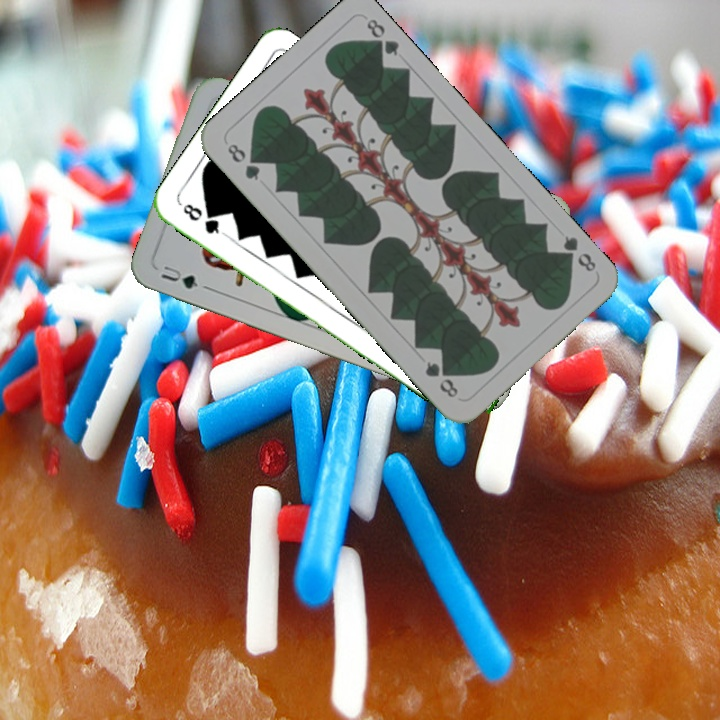G8: (179, 199, 229, 239), (555, 231, 599, 275), (223, 140, 263, 184)
GU: (157, 261, 211, 292)
